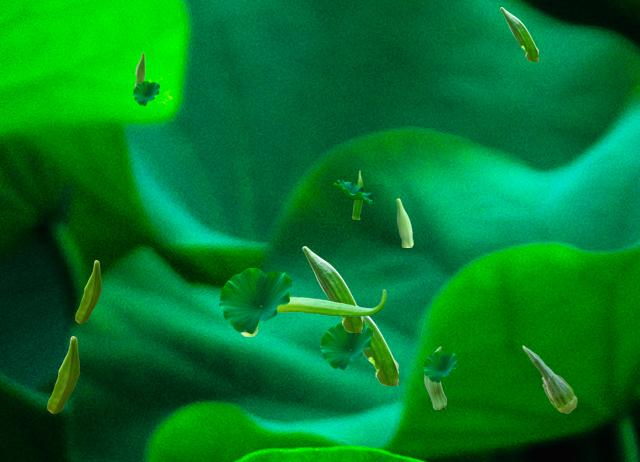okra: (240, 289, 385, 335), (302, 246, 361, 331), (522, 345, 576, 412), (47, 336, 78, 412), (362, 317, 397, 384), (500, 7, 537, 60), (75, 260, 100, 322), (424, 346, 445, 408), (396, 198, 412, 246), (352, 170, 362, 218), (134, 52, 144, 86)
